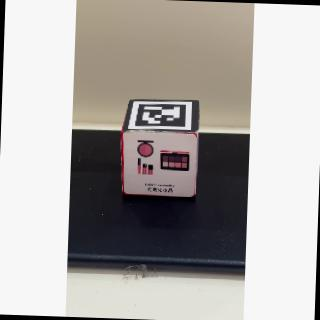Expired_Cosmetic: (120, 134, 198, 197)
